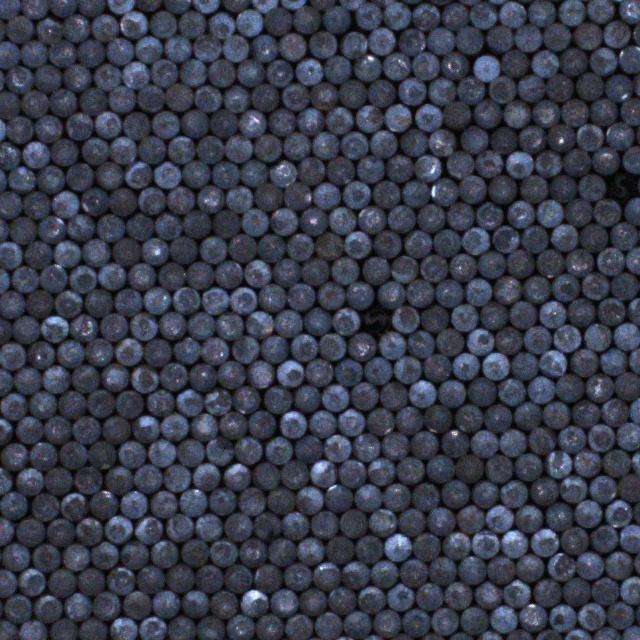tool: (468, 376, 496, 405), (486, 554, 514, 583), (4, 593, 32, 622), (224, 563, 252, 592), (575, 552, 603, 580), (516, 554, 544, 582), (112, 238, 140, 266), (372, 231, 400, 259), (382, 532, 410, 560), (287, 282, 315, 310), (346, 332, 374, 360), (236, 487, 264, 515), (148, 58, 176, 86), (48, 569, 76, 597), (253, 182, 281, 210), (544, 502, 572, 530), (16, 518, 44, 546), (502, 579, 530, 607), (268, 536, 296, 564), (550, 273, 578, 301), (87, 441, 115, 469), (239, 589, 267, 617), (144, 338, 172, 366), (564, 249, 592, 277), (514, 453, 542, 481), (100, 416, 128, 444), (86, 388, 114, 416), (279, 461, 307, 489), (32, 593, 60, 621), (95, 213, 123, 241), (412, 532, 440, 560), (200, 337, 228, 365), (328, 586, 356, 614), (534, 250, 562, 278), (590, 577, 618, 605), (273, 310, 301, 338), (323, 484, 351, 512), (526, 427, 554, 455), (402, 608, 430, 636), (568, 348, 596, 376), (165, 565, 193, 593), (298, 588, 326, 616), (453, 405, 481, 433), (54, 290, 82, 318), (222, 462, 250, 490), (189, 412, 217, 440), (270, 589, 298, 617), (294, 436, 322, 464), (578, 172, 606, 200), (210, 208, 238, 236), (193, 32, 221, 60), (282, 183, 310, 211), (264, 384, 292, 412), (104, 466, 132, 494), (238, 538, 265, 567), (92, 590, 119, 619), (339, 509, 366, 538), (254, 511, 281, 540), (332, 306, 359, 334), (12, 315, 39, 343), (73, 416, 100, 444), (399, 559, 427, 586), (414, 583, 441, 611), (152, 590, 179, 618), (174, 440, 202, 467), (228, 234, 255, 262), (574, 500, 601, 528), (126, 264, 154, 291), (86, 338, 113, 366), (454, 454, 481, 482), (494, 276, 521, 304), (28, 442, 55, 470), (31, 542, 58, 570), (559, 526, 586, 554), (499, 529, 526, 557), (40, 265, 67, 293), (448, 252, 475, 280), (150, 540, 178, 567), (431, 606, 458, 634), (46, 519, 74, 546), (427, 556, 454, 584), (583, 323, 610, 351), (481, 351, 508, 379), (59, 442, 86, 470), (25, 290, 52, 318), (200, 286, 227, 314), (316, 281, 344, 308), (381, 482, 408, 510), (99, 312, 126, 340), (164, 84, 191, 112), (234, 438, 262, 465), (358, 206, 386, 233), (75, 464, 102, 492), (198, 235, 226, 262), (596, 247, 623, 275), (62, 593, 90, 620), (398, 76, 425, 104), (158, 312, 186, 339), (542, 24, 570, 51), (411, 482, 438, 510), (585, 373, 612, 401), (243, 260, 270, 288), (82, 238, 109, 266), (367, 78, 394, 106), (178, 59, 206, 86), (484, 454, 511, 482), (548, 603, 575, 631), (489, 604, 516, 632), (428, 508, 455, 536), (215, 260, 242, 288), (444, 582, 471, 610), (427, 453, 454, 481), (135, 565, 162, 593), (338, 80, 365, 108), (275, 360, 302, 388), (133, 515, 160, 543), (228, 286, 256, 313), (62, 64, 89, 92), (296, 108, 323, 136), (16, 466, 43, 494), (116, 391, 143, 419), (8, 166, 35, 194), (523, 324, 550, 352), (231, 336, 258, 364), (341, 560, 368, 588), (369, 510, 397, 537), (398, 27, 426, 54), (338, 460, 365, 488), (342, 180, 370, 207), (455, 506, 482, 534), (81, 186, 108, 214), (438, 380, 466, 407), (254, 564, 281, 592), (325, 157, 352, 185), (7, 14, 34, 42), (568, 298, 595, 326), (209, 589, 236, 617), (58, 391, 85, 419), (30, 492, 57, 520), (33, 113, 60, 141), (192, 462, 219, 490), (424, 404, 452, 431), (410, 430, 437, 458), (457, 556, 484, 584), (205, 438, 232, 466), (24, 239, 51, 267), (334, 358, 362, 385), (429, 128, 456, 156), (241, 208, 268, 236), (588, 46, 615, 74), (132, 464, 160, 491), (269, 206, 296, 234), (106, 566, 133, 594), (367, 456, 394, 484), (15, 416, 42, 444), (380, 432, 407, 460), (76, 566, 103, 594), (353, 484, 380, 512), (518, 602, 545, 630), (195, 134, 222, 162), (72, 363, 99, 391), (503, 100, 530, 128), (456, 76, 484, 103), (392, 355, 420, 382), (356, 586, 384, 613), (237, 109, 264, 137), (603, 499, 631, 526), (21, 140, 48, 168), (89, 491, 116, 519), (120, 540, 147, 568), (60, 492, 87, 520), (268, 160, 295, 188), (605, 600, 632, 628), (354, 536, 381, 564), (239, 160, 266, 188), (272, 258, 299, 286), (383, 0, 410, 28), (573, 23, 601, 50), (600, 346, 627, 374), (223, 135, 250, 163), (278, 410, 305, 438), (195, 565, 222, 593), (604, 551, 631, 579), (498, 378, 526, 405), (194, 86, 222, 113), (189, 363, 216, 391), (414, 154, 441, 182), (459, 606, 486, 634), (134, 36, 161, 64), (0, 541, 27, 569), (90, 540, 118, 567), (324, 55, 351, 83), (404, 231, 432, 258), (589, 524, 616, 552), (203, 388, 230, 416), (130, 365, 158, 392), (125, 212, 152, 240), (422, 352, 449, 380), (310, 83, 337, 111), (407, 330, 434, 358), (343, 611, 370, 639), (562, 577, 588, 606), (225, 512, 251, 541), (312, 560, 338, 589), (166, 136, 193, 163), (519, 175, 546, 202), (343, 232, 370, 259), (446, 150, 473, 177), (21, 40, 48, 67), (309, 512, 336, 539), (284, 562, 311, 589), (613, 323, 640, 350), (483, 405, 510, 432), (487, 75, 514, 102), (137, 136, 164, 163), (326, 535, 353, 562), (555, 375, 582, 402), (395, 456, 422, 483), (411, 53, 438, 80), (370, 560, 397, 587), (159, 363, 186, 390), (322, 384, 349, 411), (129, 312, 156, 339), (331, 256, 358, 283), (414, 104, 441, 131), (120, 11, 147, 38), (408, 380, 435, 407), (462, 228, 489, 255), (277, 33, 304, 60), (391, 255, 418, 282), (572, 400, 599, 427), (183, 210, 210, 237), (517, 126, 544, 153), (470, 429, 497, 456), (366, 409, 393, 436), (485, 505, 512, 532), (339, 132, 366, 159), (552, 324, 579, 351), (510, 352, 537, 379), (250, 85, 277, 112), (477, 250, 504, 277), (105, 37, 132, 64), (513, 402, 540, 429), (611, 223, 638, 250), (118, 440, 145, 467), (588, 476, 615, 503), (103, 515, 130, 542), (79, 89, 106, 116), (254, 134, 281, 161), (545, 75, 572, 102), (148, 439, 175, 466), (576, 72, 603, 99), (319, 333, 346, 360), (310, 131, 337, 158), (53, 239, 80, 266), (33, 65, 60, 92), (259, 284, 286, 311), (301, 258, 328, 285), (605, 123, 632, 150), (362, 256, 389, 283), (13, 367, 40, 394), (601, 450, 628, 477), (593, 199, 620, 226), (509, 302, 536, 329), (95, 162, 122, 189), (384, 155, 411, 182), (37, 166, 64, 193), (131, 415, 158, 442), (246, 360, 273, 387), (345, 281, 372, 308), (70, 266, 97, 293), (6, 66, 33, 93), (298, 158, 325, 185), (66, 213, 93, 240), (417, 203, 444, 230), (385, 583, 412, 610), (91, 13, 118, 40), (137, 188, 164, 215), (446, 202, 473, 229), (166, 514, 193, 541), (441, 430, 468, 457), (314, 233, 341, 260), (166, 185, 193, 212), (267, 486, 294, 513), (427, 79, 454, 106), (69, 314, 96, 341), (379, 381, 406, 408), (149, 490, 176, 517), (386, 205, 413, 232), (92, 64, 119, 91), (226, 186, 253, 213), (152, 110, 178, 138), (296, 486, 322, 514), (472, 529, 498, 557), (368, 26, 394, 54), (314, 612, 340, 640), (22, 90, 48, 118), (548, 553, 574, 581), (530, 526, 556, 554), (406, 279, 432, 307), (349, 382, 375, 410), (249, 409, 275, 437), (614, 371, 640, 399), (602, 397, 628, 425), (62, 13, 88, 41), (110, 188, 136, 216), (538, 349, 564, 377), (352, 434, 378, 462), (558, 424, 584, 452), (436, 278, 462, 306), (182, 590, 208, 618), (526, 376, 552, 404), (455, 26, 481, 54), (443, 532, 469, 560), (458, 175, 484, 203), (182, 109, 208, 137), (100, 362, 126, 390), (218, 359, 244, 387), (297, 536, 323, 564), (526, 0, 554, 26), (280, 512, 306, 540), (163, 464, 189, 492), (217, 312, 243, 340), (22, 190, 48, 218), (514, 24, 540, 52), (56, 339, 82, 367), (544, 449, 570, 477), (43, 416, 69, 444), (182, 537, 208, 565), (170, 286, 198, 312), (39, 215, 65, 243), (75, 518, 101, 546), (303, 306, 329, 334), (363, 356, 389, 384), (508, 199, 534, 227), (136, 84, 162, 112), (289, 334, 315, 362), (329, 205, 355, 233), (252, 33, 278, 61), (264, 8, 290, 36), (370, 130, 396, 158), (144, 287, 170, 315), (402, 180, 428, 208), (474, 99, 500, 127), (142, 236, 168, 264), (43, 366, 69, 394), (597, 298, 623, 326), (124, 591, 150, 619), (285, 232, 311, 260), (220, 411, 246, 439), (187, 312, 213, 340), (0, 443, 26, 471), (306, 359, 332, 387), (172, 336, 198, 364), (611, 273, 639, 299), (162, 412, 188, 440), (308, 410, 334, 438), (245, 309, 271, 337), (530, 478, 556, 506), (86, 288, 112, 316), (266, 436, 292, 464), (170, 236, 196, 264), (154, 160, 180, 188), (432, 228, 458, 256), (258, 234, 284, 262), (300, 206, 326, 234), (373, 608, 399, 636), (606, 75, 632, 103), (223, 86, 249, 114), (48, 90, 74, 117), (45, 467, 71, 494), (537, 200, 563, 227), (383, 104, 409, 131), (576, 123, 602, 150), (308, 31, 334, 58), (237, 59, 263, 86), (49, 41, 75, 68), (18, 567, 44, 594), (465, 278, 491, 305), (10, 215, 36, 242), (558, 47, 584, 74), (429, 26, 455, 53), (93, 111, 119, 138), (560, 98, 586, 125), (558, 475, 584, 502), (97, 264, 124, 290), (507, 249, 533, 276), (496, 326, 522, 353), (412, 4, 438, 31), (507, 151, 533, 178), (7, 115, 33, 142), (588, 424, 614, 451), (516, 504, 542, 531), (442, 481, 468, 508), (572, 450, 599, 476), (61, 542, 87, 569), (78, 39, 104, 66), (394, 408, 420, 435), (265, 59, 292, 85), (51, 138, 77, 165), (460, 127, 486, 154), (28, 392, 54, 419), (110, 136, 136, 163), (178, 489, 204, 516), (472, 481, 498, 508), (533, 100, 559, 127), (207, 488, 234, 514), (548, 125, 574, 152), (222, 34, 248, 61), (516, 74, 543, 100), (566, 198, 592, 225), (580, 224, 606, 251), (591, 146, 617, 173), (398, 508, 424, 535), (123, 111, 149, 138), (337, 409, 363, 436), (476, 201, 502, 228), (590, 98, 616, 125), (197, 184, 223, 211), (550, 223, 576, 250), (382, 54, 409, 80), (543, 401, 569, 428), (116, 338, 142, 365), (603, 21, 629, 48), (562, 148, 588, 175), (122, 62, 148, 89), (535, 149, 561, 176), (285, 614, 312, 640), (65, 163, 91, 190), (182, 161, 208, 188), (309, 459, 335, 486), (236, 9, 262, 36), (500, 0, 526, 27), (41, 315, 68, 341), (489, 176, 515, 203), (500, 51, 526, 78), (391, 305, 417, 332), (501, 479, 527, 506), (379, 333, 405, 360), (452, 351, 478, 378), (292, 5, 318, 32), (261, 335, 287, 362), (549, 175, 575, 202), (281, 85, 307, 112), (500, 428, 526, 455), (174, 388, 200, 415), (352, 54, 379, 80), (442, 53, 468, 80), (521, 226, 547, 253), (151, 11, 177, 38), (419, 255, 445, 282), (326, 106, 352, 133), (212, 162, 238, 189), (489, 126, 515, 153), (378, 281, 404, 308), (475, 582, 501, 609), (401, 128, 427, 155), (109, 84, 136, 110), (431, 177, 457, 204), (52, 189, 78, 216), (422, 305, 448, 332), (268, 108, 294, 135), (282, 132, 308, 159), (158, 262, 184, 289), (324, 6, 350, 33), (442, 2, 468, 29), (372, 180, 398, 207), (152, 212, 179, 238), (340, 32, 367, 58), (210, 109, 236, 136), (145, 389, 172, 415), (178, 9, 204, 36), (251, 462, 277, 489), (530, 50, 556, 77), (355, 1, 381, 28), (208, 58, 233, 86), (0, 492, 25, 520), (478, 150, 503, 178), (471, 0, 496, 28), (120, 492, 146, 518), (357, 157, 383, 183), (522, 276, 548, 302), (473, 56, 499, 82), (582, 272, 608, 298), (492, 225, 518, 251), (534, 580, 560, 606), (115, 288, 141, 314), (64, 112, 90, 138), (232, 386, 258, 412), (578, 602, 604, 628), (480, 302, 506, 328), (187, 262, 213, 288), (82, 138, 108, 164), (437, 328, 463, 354), (323, 436, 349, 462), (312, 182, 338, 208), (164, 34, 190, 60), (209, 540, 235, 566), (538, 302, 564, 328), (124, 162, 150, 188), (10, 267, 36, 293), (296, 58, 322, 84), (195, 515, 221, 541), (294, 385, 320, 411), (441, 104, 467, 130), (486, 26, 512, 52), (207, 11, 233, 37), (256, 615, 283, 640), (557, 0, 584, 25), (227, 615, 254, 640), (355, 105, 380, 132), (468, 328, 493, 355), (0, 392, 25, 419), (451, 305, 476, 332), (27, 342, 52, 369), (37, 17, 62, 44), (616, 422, 640, 450), (167, 616, 194, 640), (196, 616, 223, 640), (0, 289, 23, 317), (0, 343, 23, 370), (138, 617, 165, 640), (618, 474, 640, 502), (586, 0, 614, 22), (110, 617, 136, 640), (79, 618, 106, 640), (619, 575, 640, 603), (50, 619, 78, 640), (0, 241, 21, 268), (619, 44, 640, 71), (0, 192, 21, 219), (620, 524, 640, 552), (20, 620, 47, 640), (621, 99, 640, 125), (0, 41, 18, 68), (0, 91, 18, 118), (0, 141, 18, 168), (623, 145, 640, 172), (22, 0, 48, 17), (624, 198, 640, 225), (620, 0, 640, 21), (0, 569, 15, 597), (77, 0, 105, 15), (51, 0, 77, 16), (0, 0, 21, 18), (626, 248, 640, 275), (592, 626, 619, 640), (0, 516, 13, 544), (627, 296, 640, 323), (107, 0, 134, 13), (0, 620, 17, 640), (165, 0, 190, 13), (0, 418, 12, 445), (0, 367, 12, 394), (563, 628, 590, 640), (251, 0, 277, 12), (629, 396, 640, 424), (192, 1, 220, 12), (222, 0, 250, 11), (506, 629, 533, 640), (0, 467, 11, 494), (135, 0, 162, 11), (629, 348, 640, 374), (534, 629, 560, 640), (0, 318, 10, 346), (338, 0, 366, 10), (279, 0, 306, 10), (622, 626, 640, 640), (308, 0, 335, 9), (631, 448, 640, 475), (477, 631, 503, 640), (0, 267, 8, 294), (447, 632, 473, 640), (387, 633, 414, 640), (633, 498, 640, 525), (633, 71, 640, 98), (633, 21, 640, 48), (0, 216, 7, 242), (418, 633, 444, 640), (634, 550, 640, 578), (357, 634, 384, 640), (368, 0, 395, 6), (0, 115, 5, 143), (0, 167, 5, 194), (0, 14, 5, 41), (456, 0, 482, 5), (332, 635, 357, 640)
tool_b: (604, 172, 637, 201), (359, 306, 391, 335)
